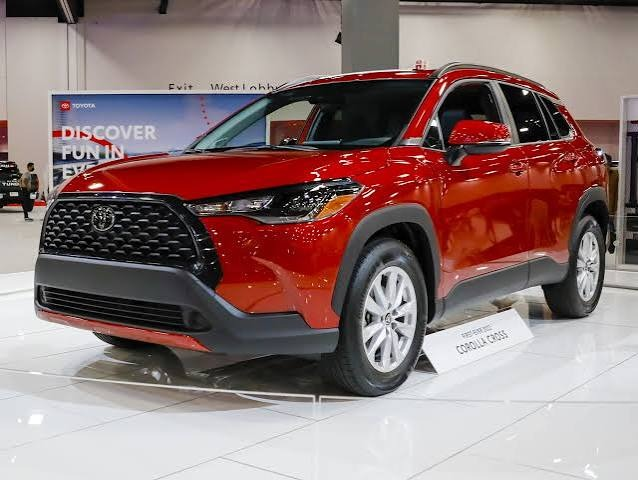car: (29, 58, 620, 391)
